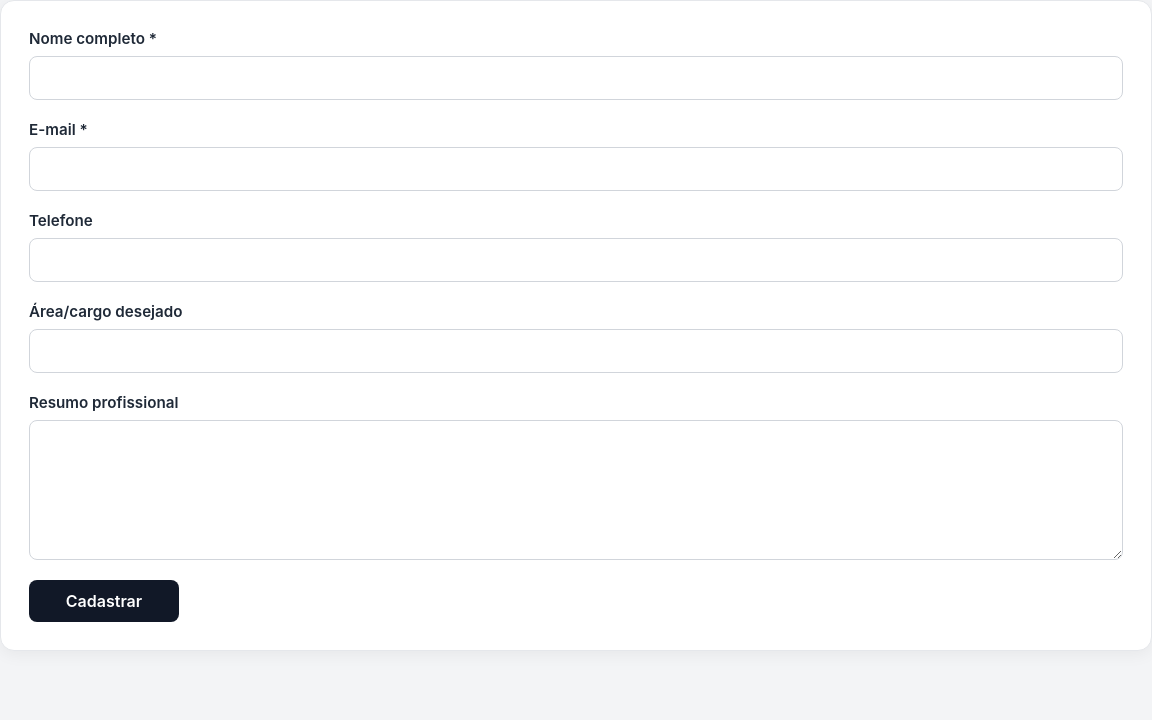
Test case: CandidateForm › deve mostrar erro quando o nome não for informado
Click the button "Cadastrar" at (104, 601), box [29, 580, 179, 622]
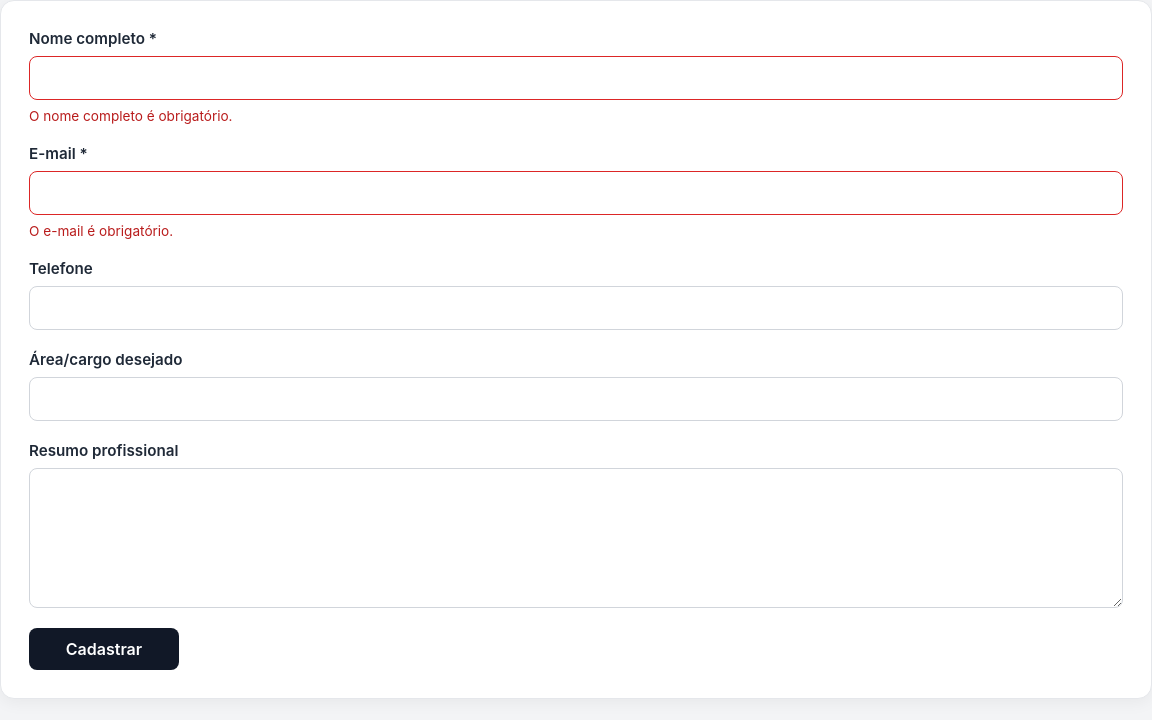
Check: the text "O nome completo é obrigatório." is shown, box [29, 108, 232, 124]
